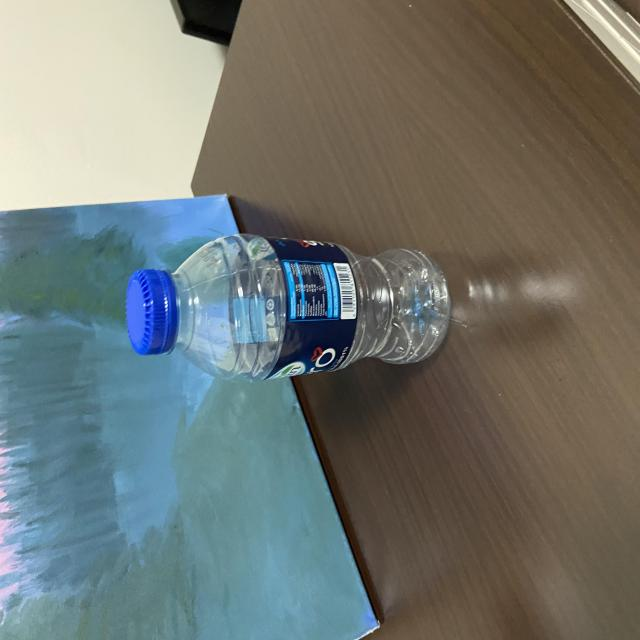bottle: (116, 229, 463, 385)
